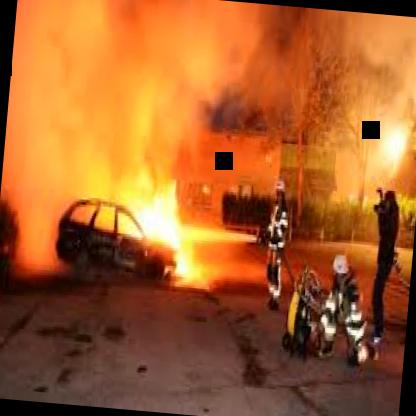fire: (35, 116, 203, 284)
